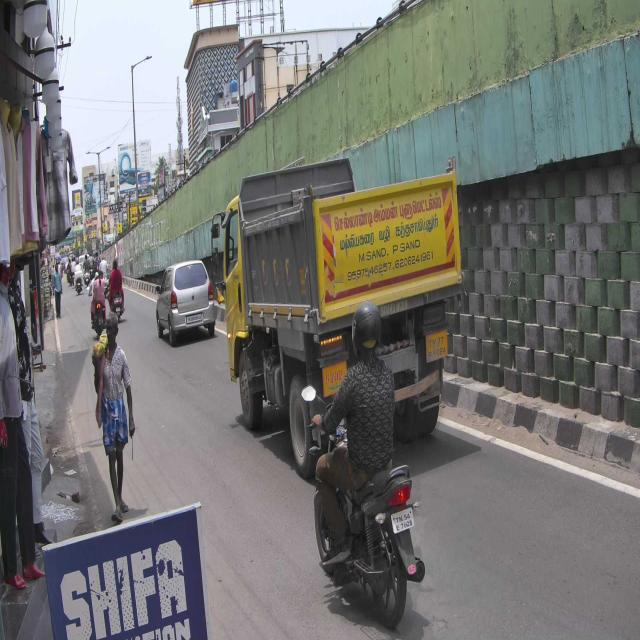single_rider: (301, 296, 424, 626)
